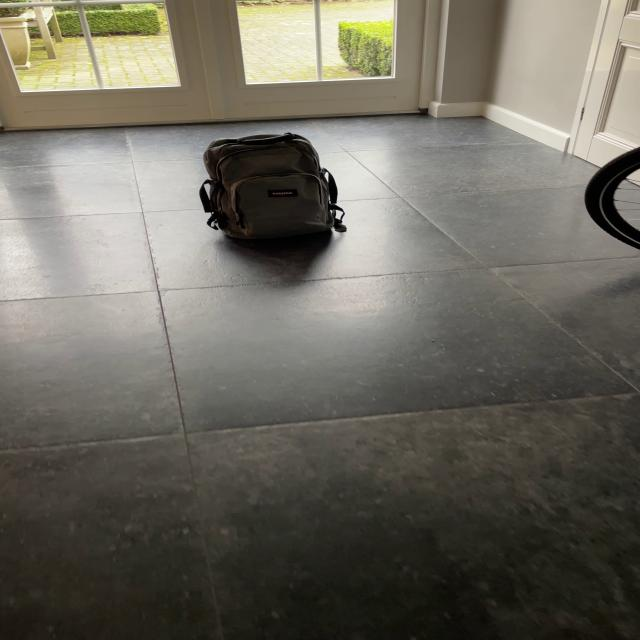backpack: (193, 129, 346, 246)
